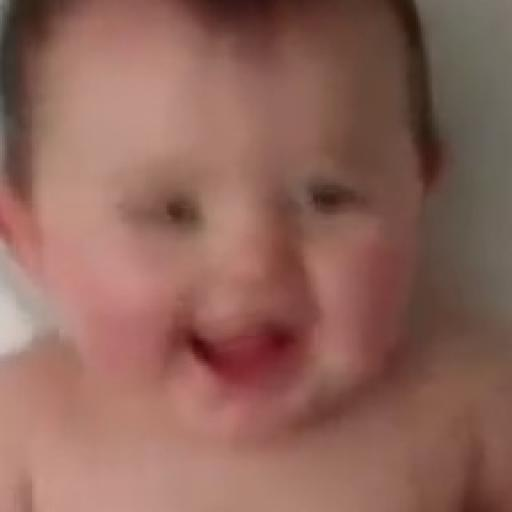Autism: (31, 11, 473, 459)
